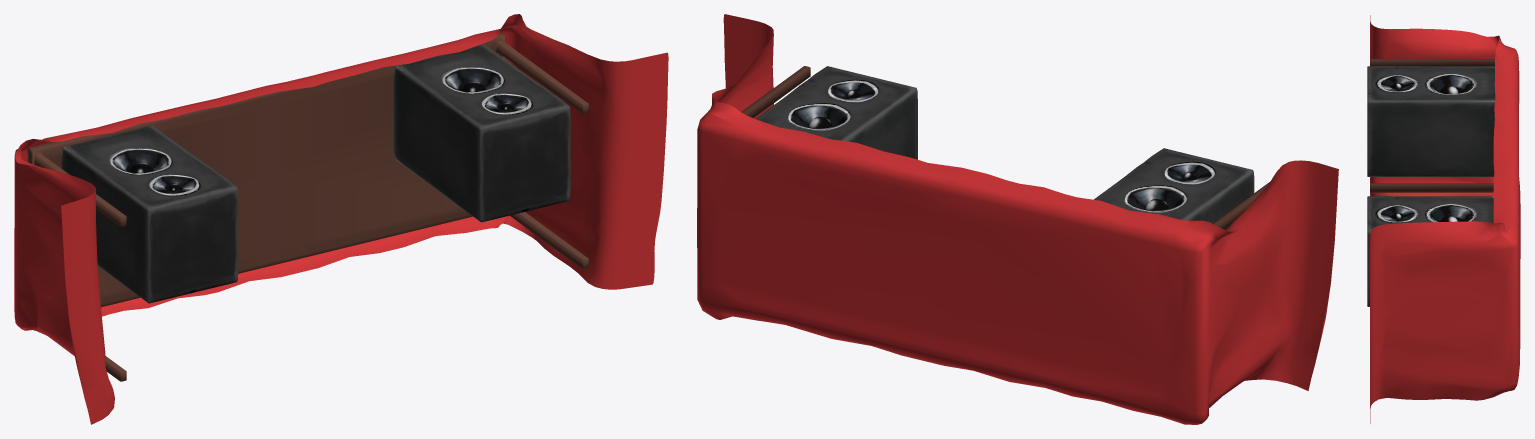
File: table_keke.fbx
3 views of the same model, side by side, from view 1: azimuth 30°, elevation 25°; view 2: azimuth 150°, elevation 25°; view 3: azimuth 270°, elevation 25° (orthographic). The views are drawn at different scales.
Parts seen in each view (by area): view 1: table_keke; view 2: table_keke; view 3: table_keke.
Part boxes in pixels (bbox=[...]): table_keke: bbox=[14, 14, 668, 424]; table_keke: bbox=[697, 14, 1338, 424]; table_keke: bbox=[1367, 15, 1520, 423].
Size of the model in its own units: 539 by 197 by 147.
